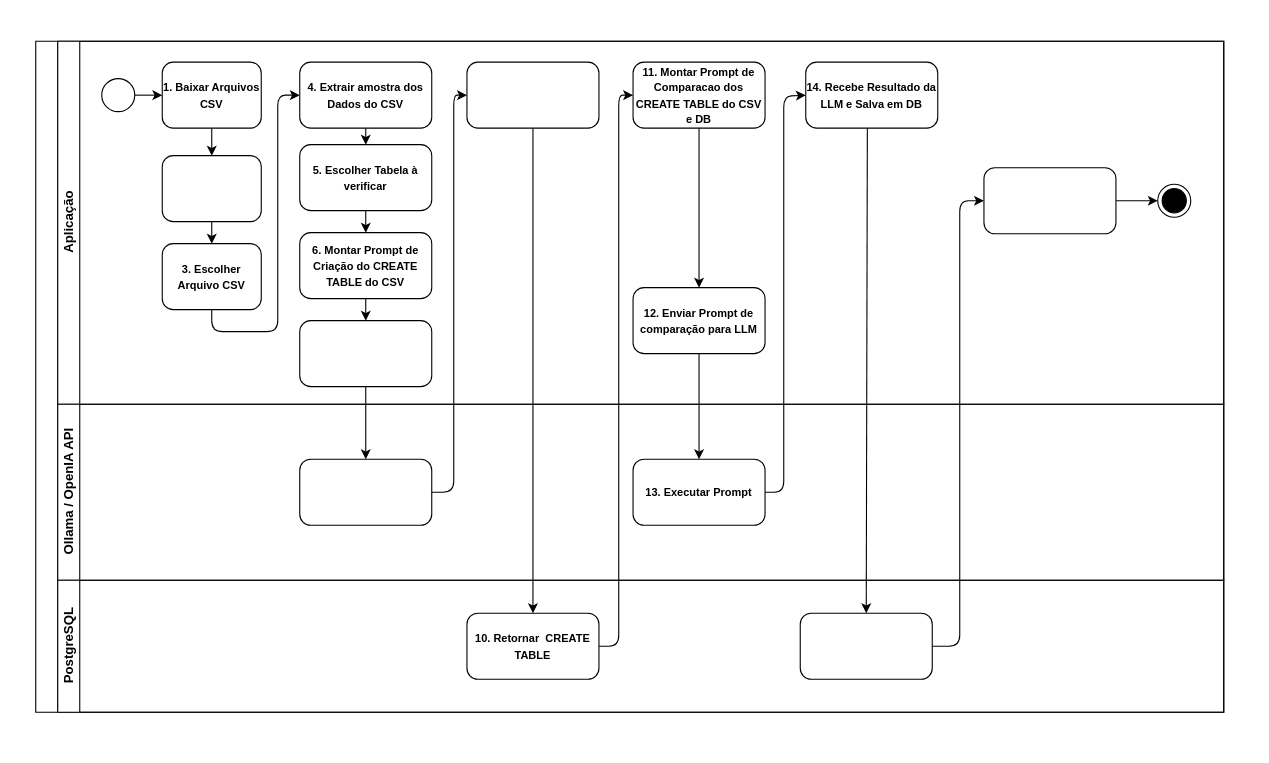
Some shapes in this 1269 by 763 pixel diagram are drawn without their labels. Here are the shapes that lost their labels. From the top down, the box of each, then its label:
(466, 61, 599, 128): 9. Extrair CREATE TABLE do DB
(161, 155, 261, 222): 2. Descompactar Arquivos CSV
(983, 167, 1116, 234): 16. Exibir Proceso na Interface de Usuário
(299, 320, 432, 387): 7. Enviar Prompt para LLM
(299, 458, 432, 525): 8. Executar Prompt
(799, 612, 932, 679): 15. Salvar dados do Processo
